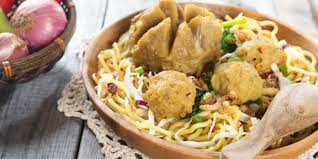bakso: (125, 7, 270, 117)
